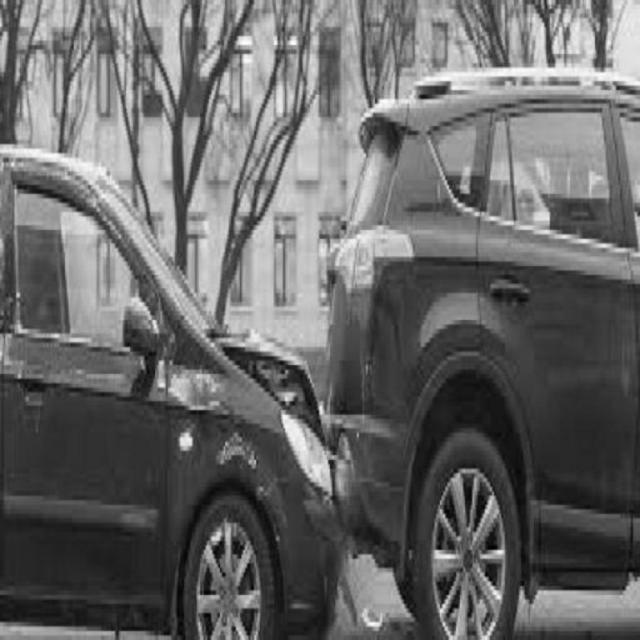accident: (6, 78, 640, 638)
